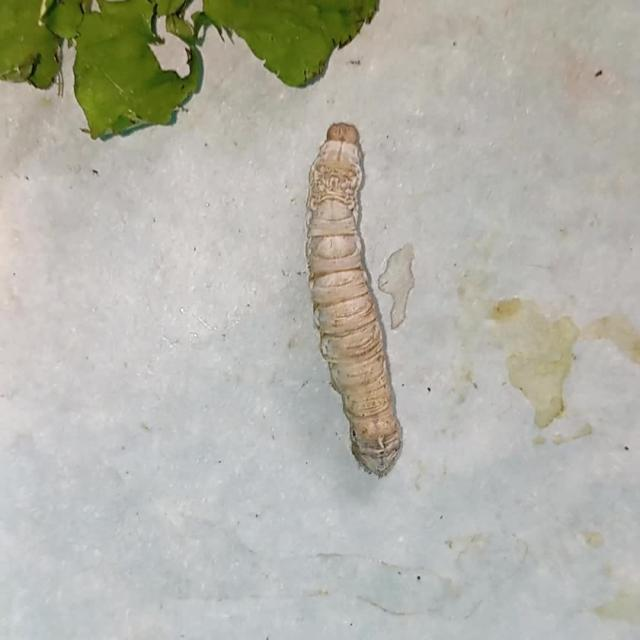Grasserie: (264, 106, 453, 487)
